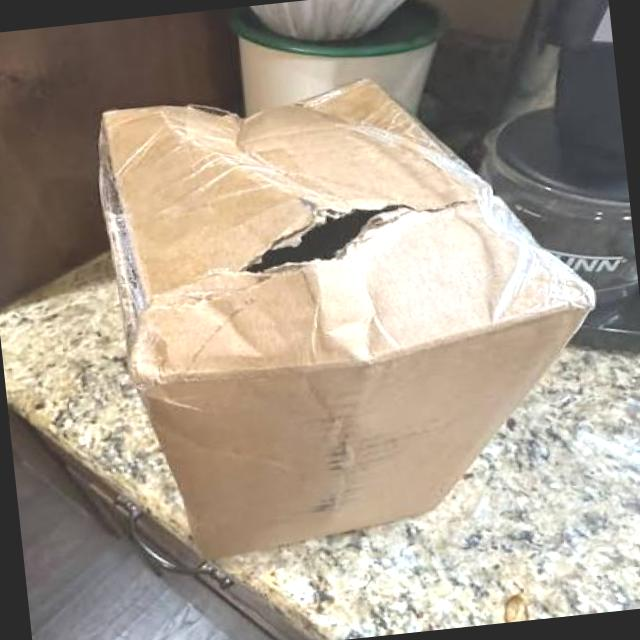package_damage: (80, 51, 588, 383)
